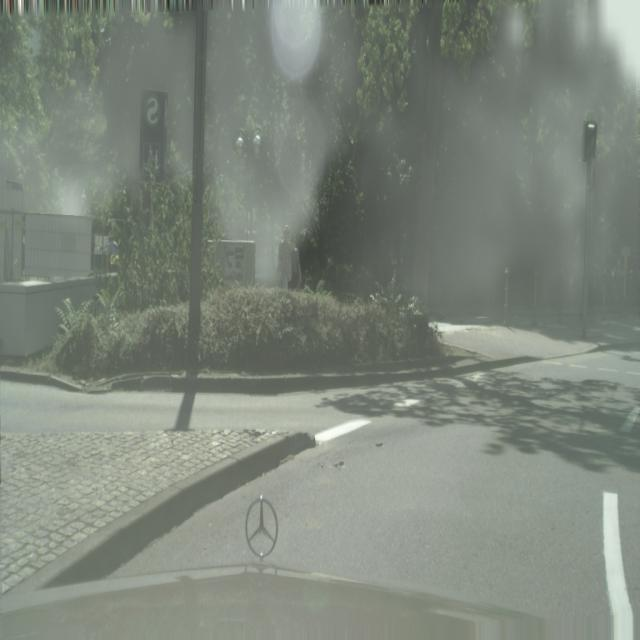person: (278, 224, 292, 290), (289, 233, 302, 290)
